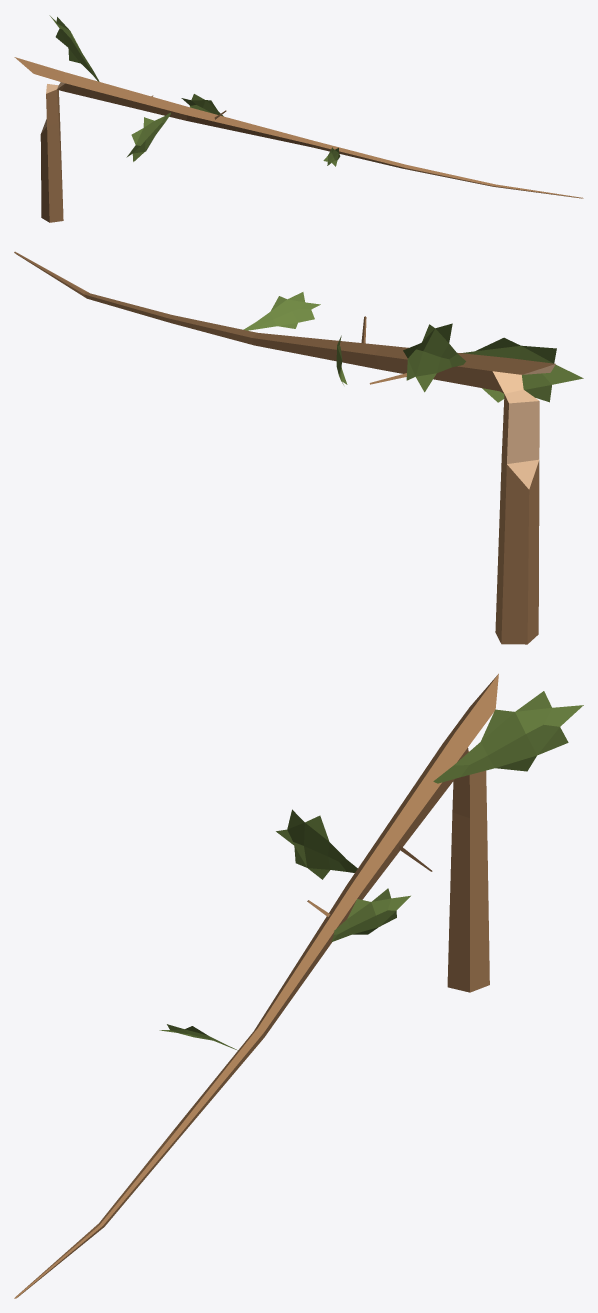
Rendered from Dead_Pine_Tree_crk_l_07.fbx.
3 views of the same model, one above another, from view 1: azimuth 30°, elevation 25°; view 2: azimuth 150°, elevation 25°; view 3: azimuth 270°, elevation 25° (orthographic). The views are drawn at different scales.
Visible parts, largest first — view 1: Dead_Pine_Tree_crk_l_07; view 2: Dead_Pine_Tree_crk_l_07; view 3: Dead_Pine_Tree_crk_l_07.
Boxes of the visible parts, box(x1,y1,x2,y2) form: Dead_Pine_Tree_crk_l_07: box(14, 15, 583, 222); Dead_Pine_Tree_crk_l_07: box(14, 251, 583, 644); Dead_Pine_Tree_crk_l_07: box(14, 673, 583, 1298).
Bounding box in the file's own units: 1357 × 538 × 884.
